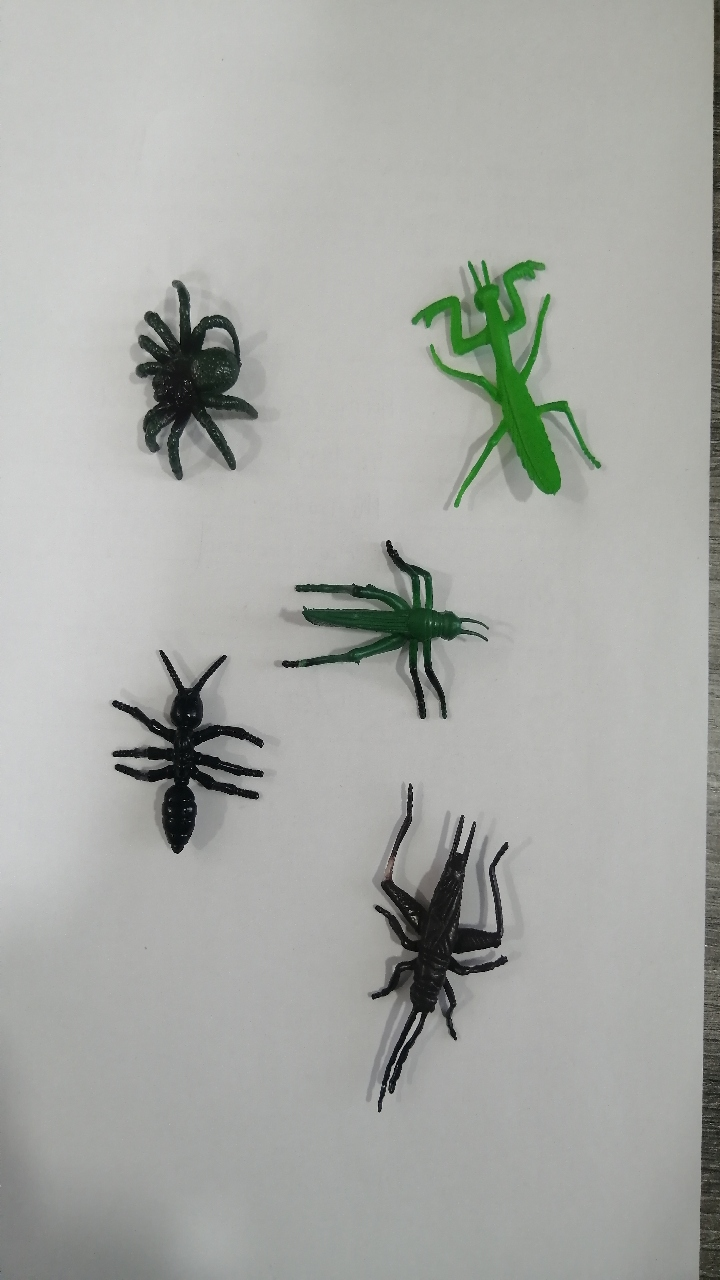intruso: (331, 755, 551, 1125), (381, 219, 617, 543), (251, 522, 509, 742), (80, 239, 283, 503), (81, 623, 288, 875)
